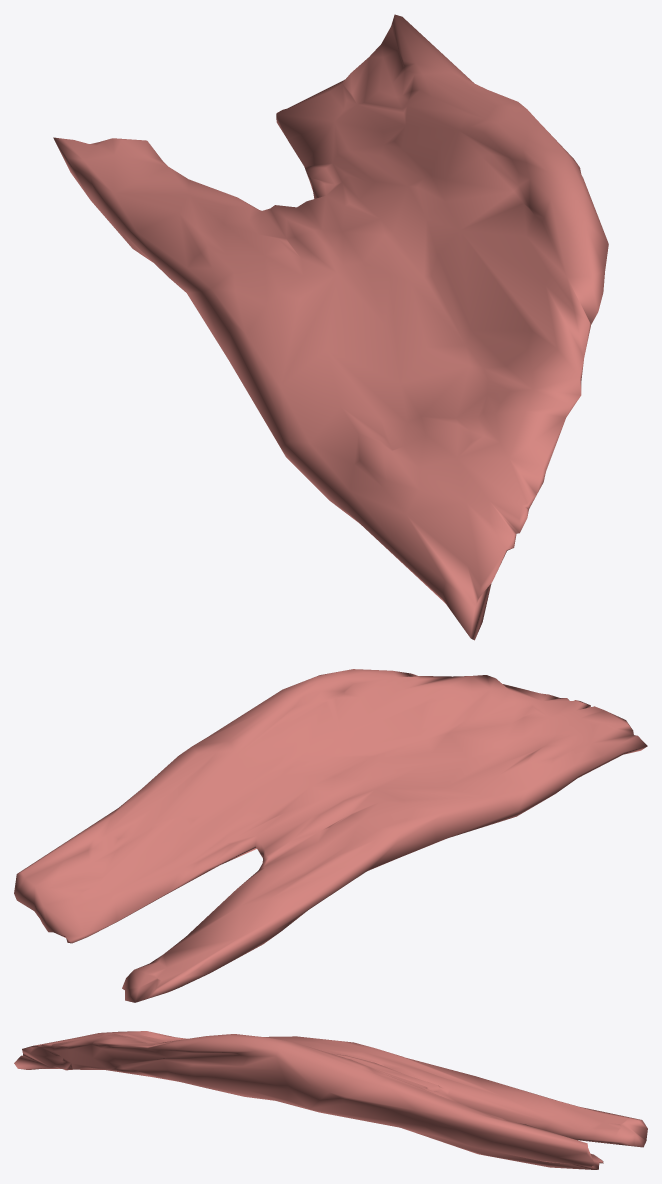
The picture shows the model from 3 angles, top to bottom: view 1: azimuth 30°, elevation 25°; view 2: azimuth 150°, elevation 25°; view 3: azimuth 270°, elevation 25°; orthographic projection. The views are drawn at different scales.
Parts seen in each view (by area): view 1: ZA_646e3a060dead0da; view 2: ZA_646e3a060dead0da; view 3: ZA_646e3a060dead0da.
Boxes of the visible parts, left/top/right/bottom form: ZA_646e3a060dead0da: left=53, top=14, right=608, bottom=640; ZA_646e3a060dead0da: left=14, top=669, right=647, bottom=1002; ZA_646e3a060dead0da: left=14, top=1031, right=647, bottom=1169.
Bounding box in the file's own units: 0.0356 × 0.017 × 0.0768.
